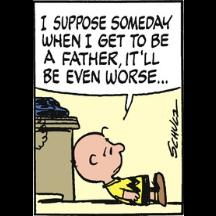charlie: (72, 127, 166, 207)
